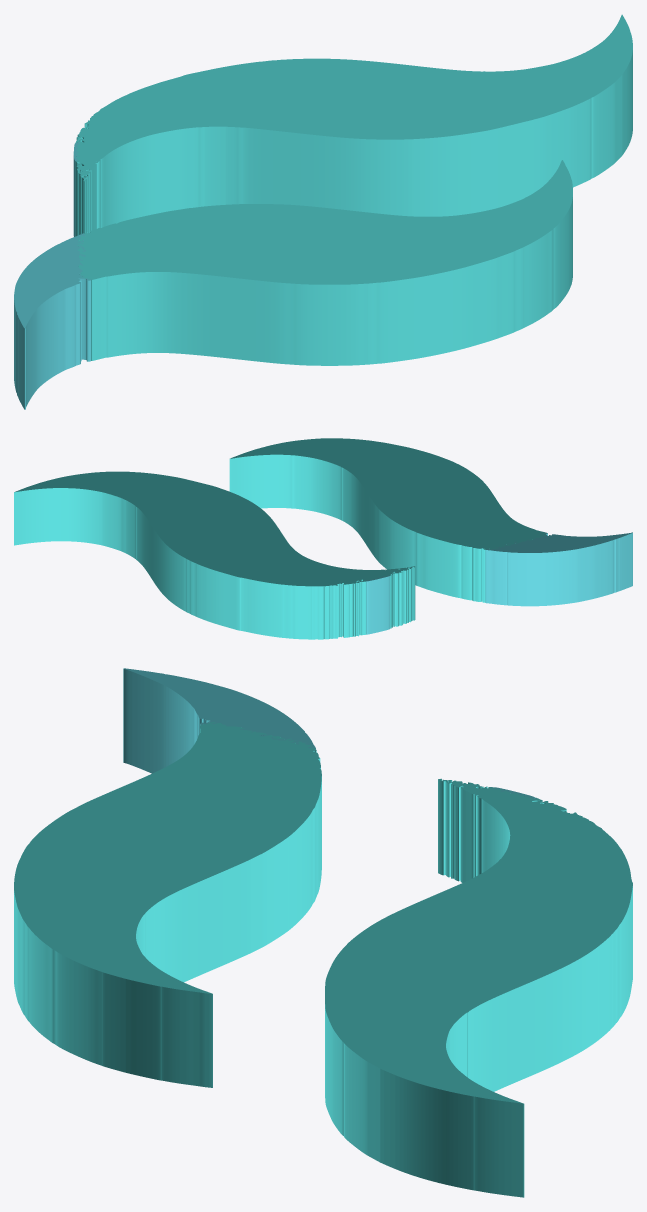
File: tailwind.glb
3 views of the same model, one above another, from view 1: azimuth 30°, elevation 25°; view 2: azimuth 150°, elevation 25°; view 3: azimuth 270°, elevation 25° (orthographic). The views are drawn at different scales.
Visible parts, largest first — view 1: Node1, Node2, Node3; view 2: Node1, Node2, Node3, Node4; view 3: Node1, Node2, Node3.
Boxes of the visible parts, x1,y1,x2,y2 form: Node1: (75, 14, 632, 236); Node2: (77, 160, 572, 365); Node3: (14, 233, 90, 409); Node1: (14, 471, 415, 639); Node2: (229, 438, 545, 602); Node3: (485, 532, 632, 606); Node4: (364, 575, 390, 634); Node1: (325, 778, 632, 1197); Node2: (14, 722, 321, 1087); Node3: (123, 668, 315, 773).
Size of what is drawn, in the model's own units: 3.91 by 0.3937 by 2.35.
